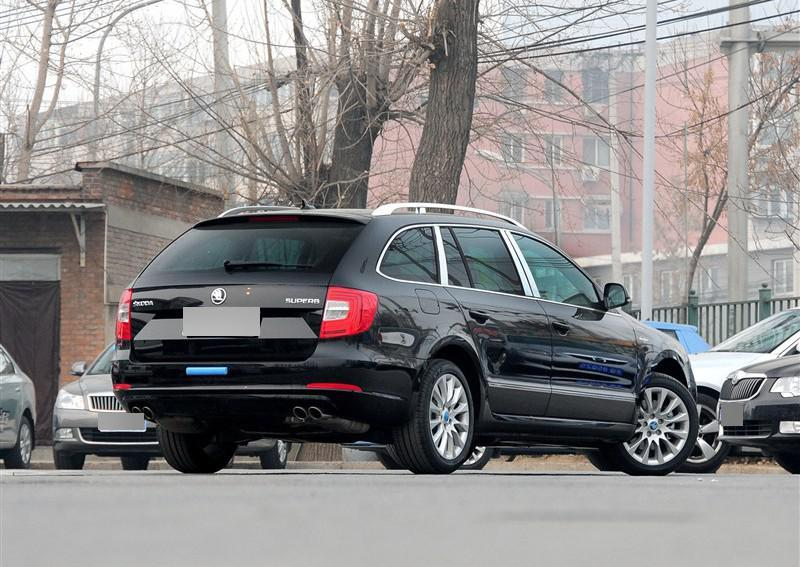Wagon: (108, 199, 699, 474)
